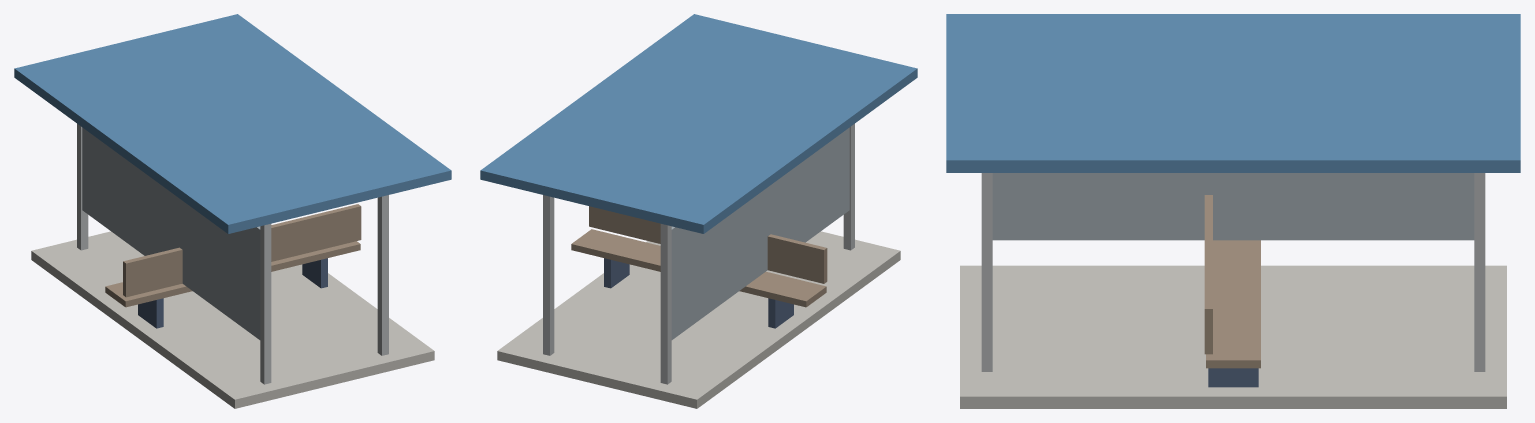
File: 17_street_props-09.glb
3 views of the same model, side by side, from view 1: azimuth 30°, elevation 25°; view 2: azimuth 150°, elevation 25°; view 3: azimuth 270°, elevation 25° (orthographic). The views are drawn at different scales.
Size of the model in its own units: 4 by 3.1 by 6.3.
